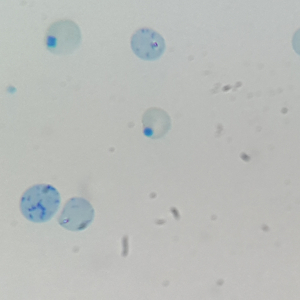aggregate reticulocyte: (17, 182, 62, 224), (129, 26, 168, 63)
erythrocyte: (42, 18, 83, 57), (56, 195, 96, 232), (139, 106, 173, 140)
